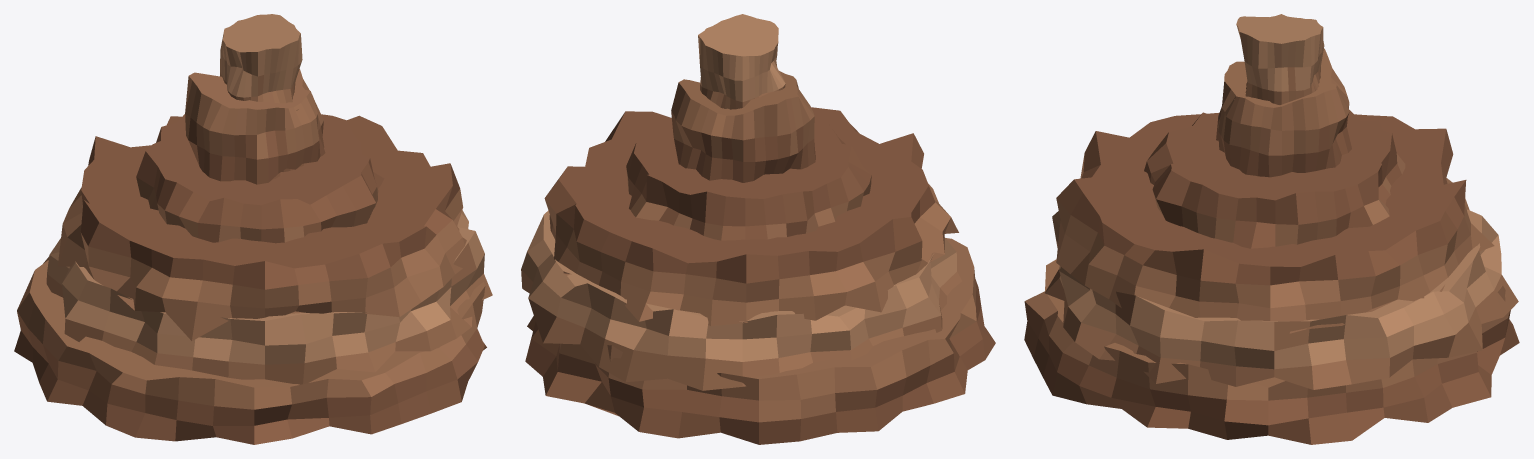
File: rocks.glb
The picture shows the model from 3 angles, left to right: view 1: azimuth 30°, elevation 25°; view 2: azimuth 150°, elevation 25°; view 3: azimuth 270°, elevation 25°; orthographic projection. The views are drawn at different scales.
Parts seen in each view (by area): view 1: Formation_1, Formation_3, Formation_0, Formation_2; view 2: Formation_1, Formation_3, Formation_0, Formation_2; view 3: Formation_1, Formation_3, Formation_0, Formation_2.
Boxes of the visible parts, x1,y1,x2,y2 form: Formation_1: [14, 115, 492, 444]; Formation_3: [136, 114, 384, 243]; Formation_0: [185, 69, 325, 184]; Formation_2: [220, 14, 303, 171]; Formation_1: [521, 107, 995, 444]; Formation_3: [626, 121, 871, 240]; Formation_0: [671, 71, 815, 182]; Formation_2: [698, 14, 785, 109]; Formation_1: [1024, 112, 1519, 444]; Formation_3: [1144, 110, 1405, 248]; Formation_0: [1216, 48, 1351, 177]; Formation_2: [1234, 14, 1324, 104].
Size of the model in its own units: 4.92 by 3.54 by 4.87.
